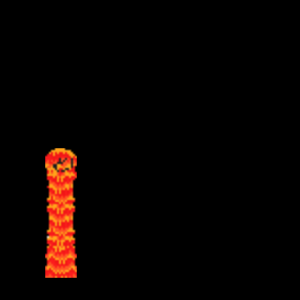Enemy: (45, 148, 77, 278)
